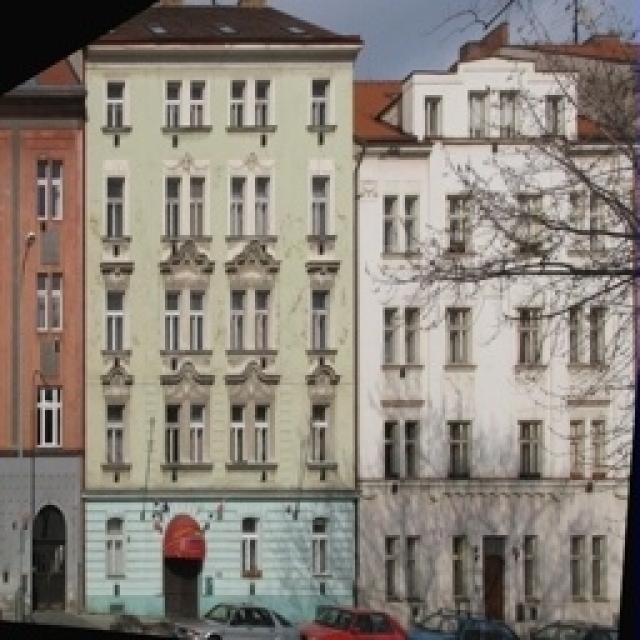building: (78, 0, 360, 635), (360, 40, 640, 628)
